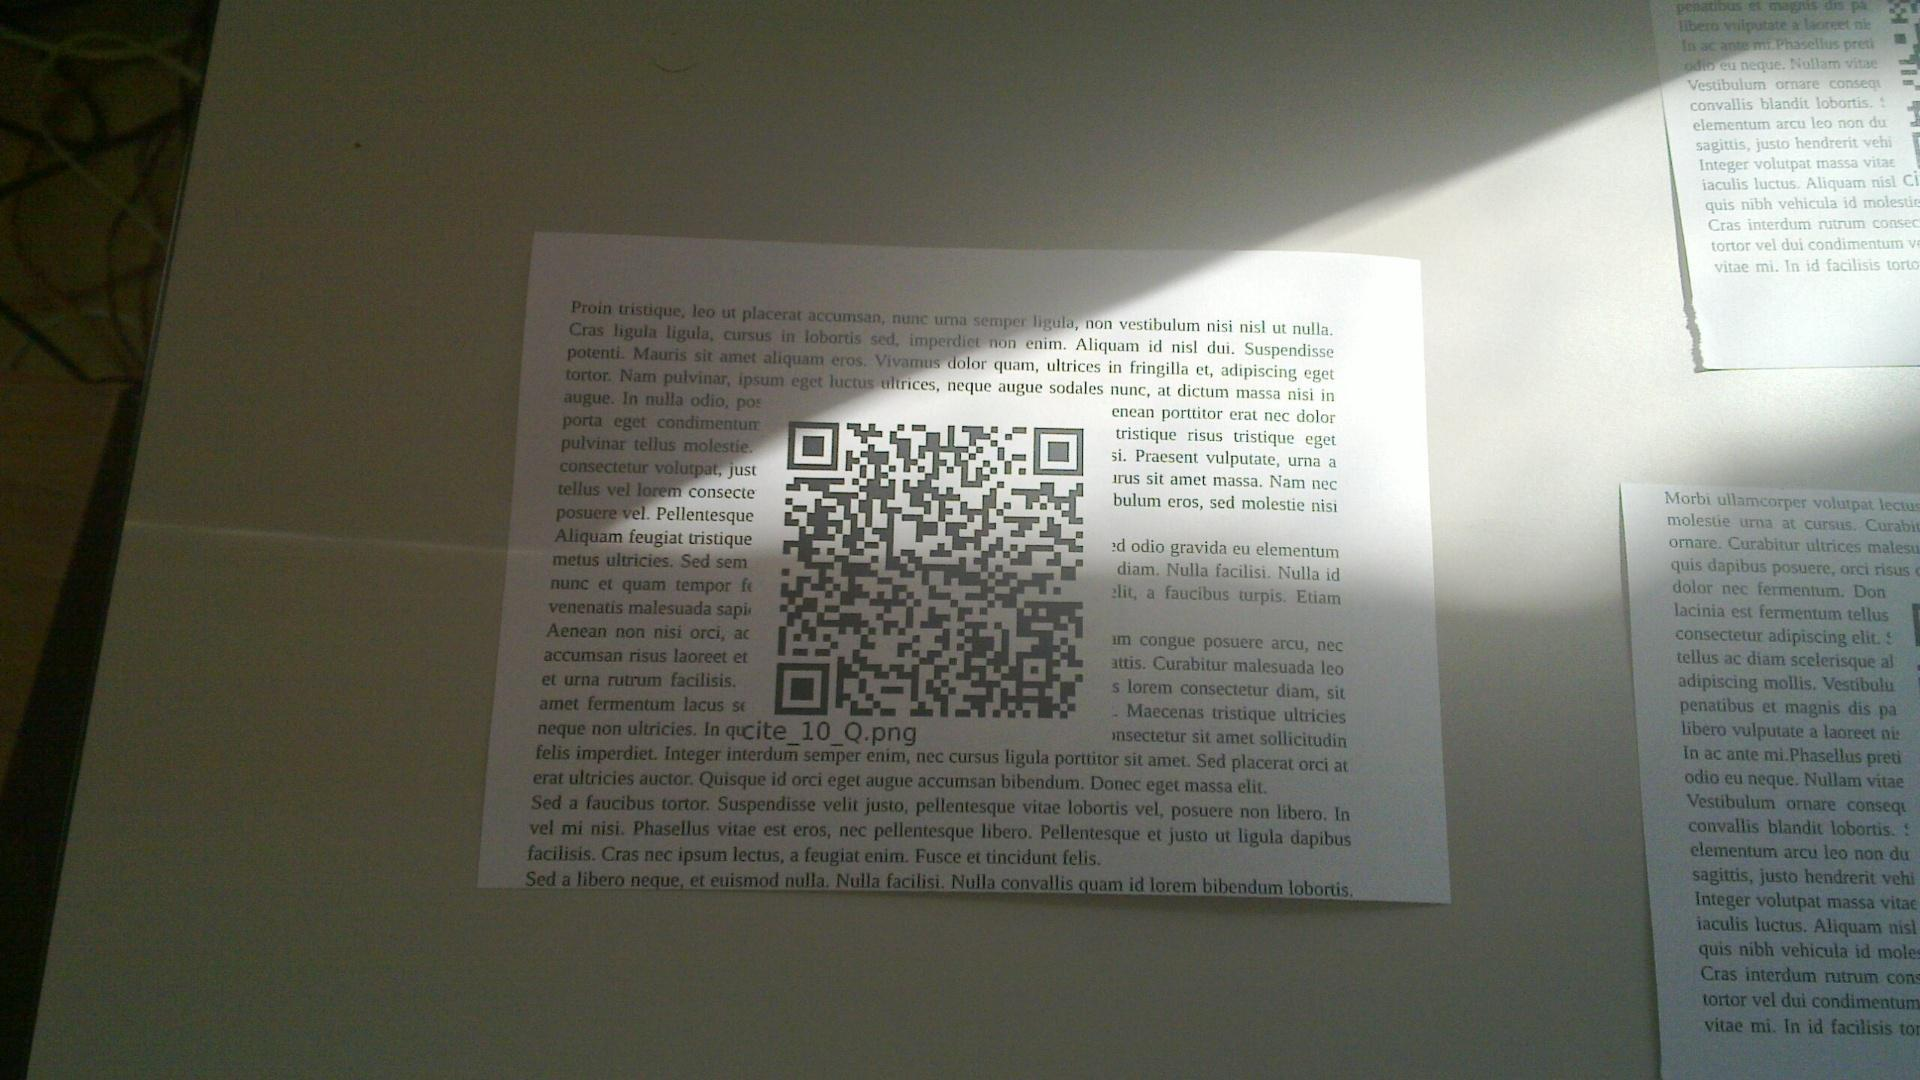Finder pattern: (770, 655, 833, 719), (1029, 423, 1093, 480), (781, 415, 841, 472)
